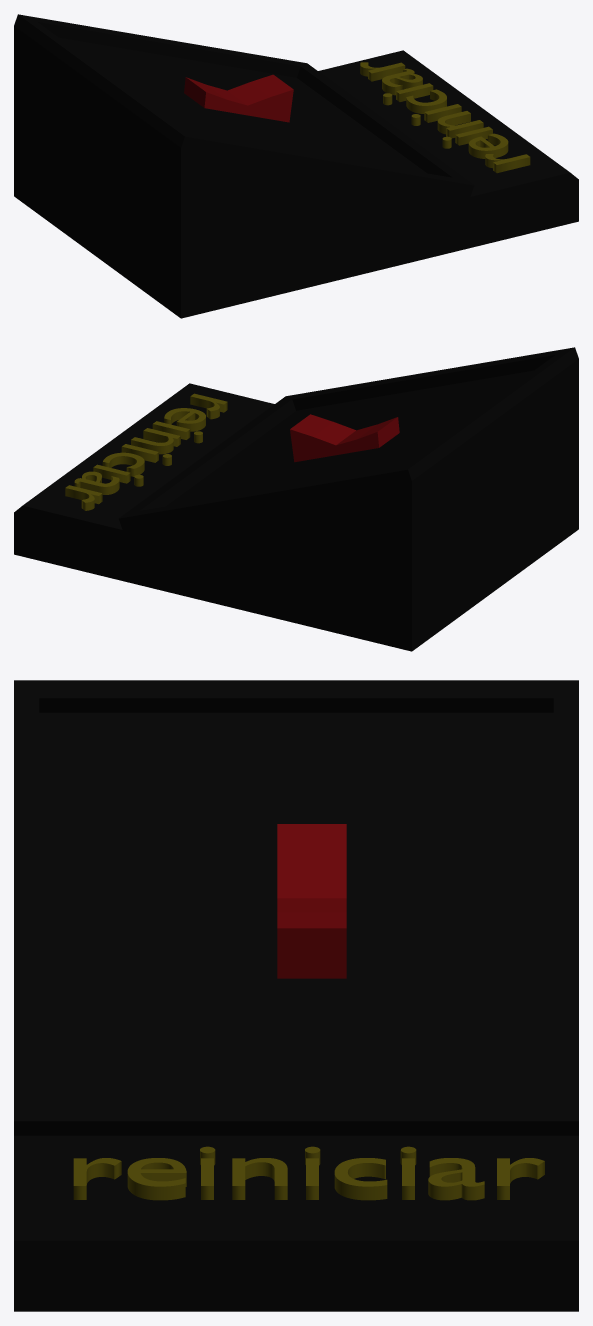
Rendered from reiniciar.glb.
3 views of the same model, one above another, from view 1: azimuth 30°, elevation 25°; view 2: azimuth 150°, elevation 25°; view 3: azimuth 270°, elevation 25° (orthographic). The views are drawn at different scales.
Parts seen in each view (by area): view 1: Cube.002, Text.001, Cube.003; view 2: Cube.002, Text.001, Cube.003; view 3: Cube.002, Text.001, Cube.003.
Boxes of the visible parts, x1=… form: Cube.002: x1=14, y1=14, x2=578, y2=318; Text.001: x1=360, y1=62, x2=530, y2=173; Cube.003: x1=184, y1=74, x2=293, y2=122; Cube.002: x1=14, y1=347, x2=578, y2=651; Text.001: x1=65, y1=393, x2=227, y2=510; Cube.003: x1=290, y1=414, x2=399, y2=462; Cube.002: x1=14, y1=680, x2=578, y2=1311; Text.001: x1=73, y1=1146, x2=544, y2=1200; Cube.003: x1=277, y1=824, x2=346, y2=978.
Size of the model in its own units: 2.75 by 1.2 by 2.
